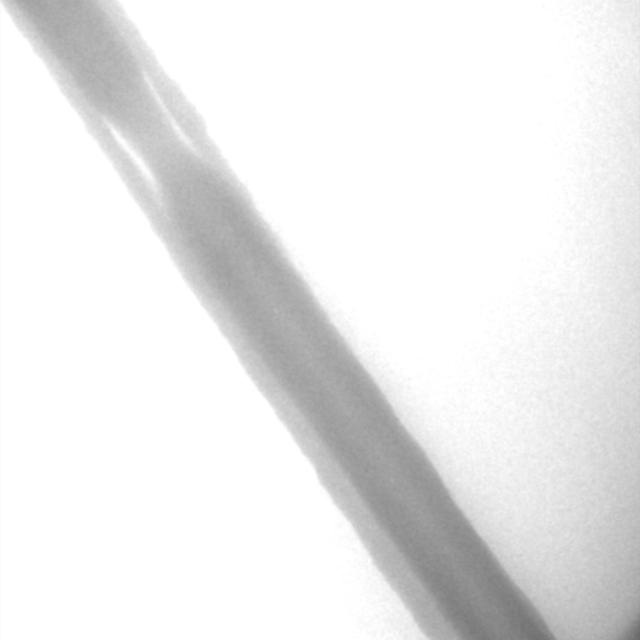unfused: (106, 76, 198, 191)
